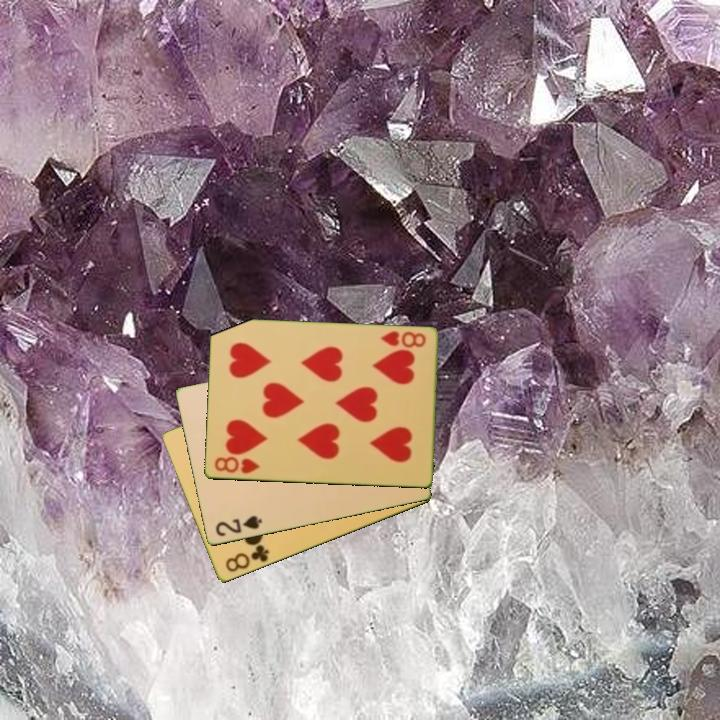2s: (212, 512, 265, 540)
8c: (222, 541, 272, 575)
8h: (211, 453, 262, 477), (377, 328, 428, 351)
